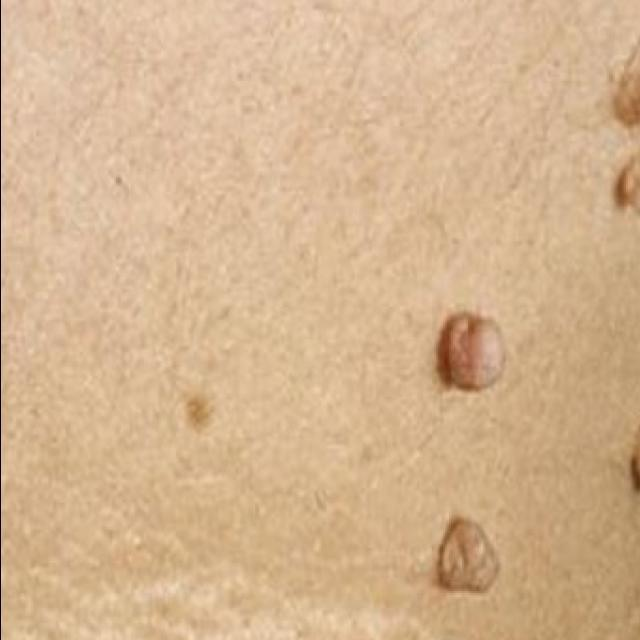wart: (431, 312, 505, 393), (433, 516, 499, 598), (612, 152, 640, 212), (631, 405, 640, 520)
